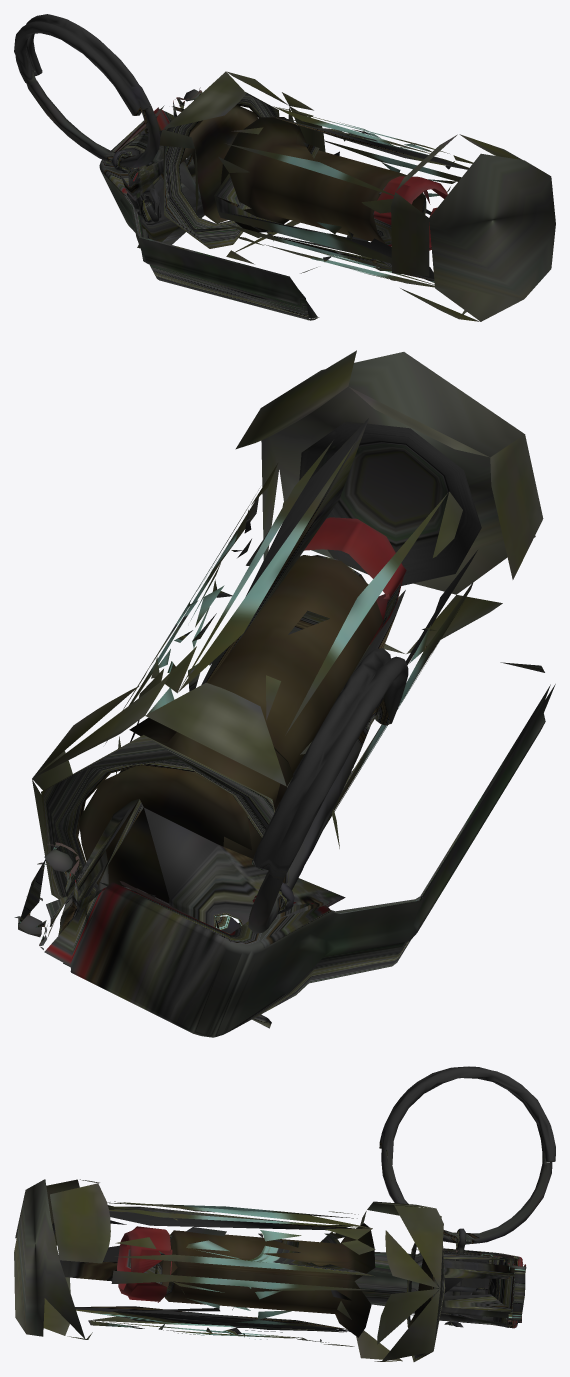
Rendered from w_flashbang.glb.
The picture shows the model from 3 angles, top to bottom: view 1: azimuth 30°, elevation 25°; view 2: azimuth 150°, elevation 25°; view 3: azimuth 270°, elevation 25°; orthographic projection. The views are drawn at different scales.
Parts seen in each view (by area): view 1: w_flashbang; view 2: w_flashbang; view 3: w_flashbang.
Boxes of the visible parts, <box> form: w_flashbang: <box>14,14,555,321</box>; w_flashbang: <box>14,350,555,1037</box>; w_flashbang: <box>14,1066,555,1361</box>.
Bounding box in the file's own units: 0.1239 × 0.0995 × 0.2087.
1 material, 1 textured.
